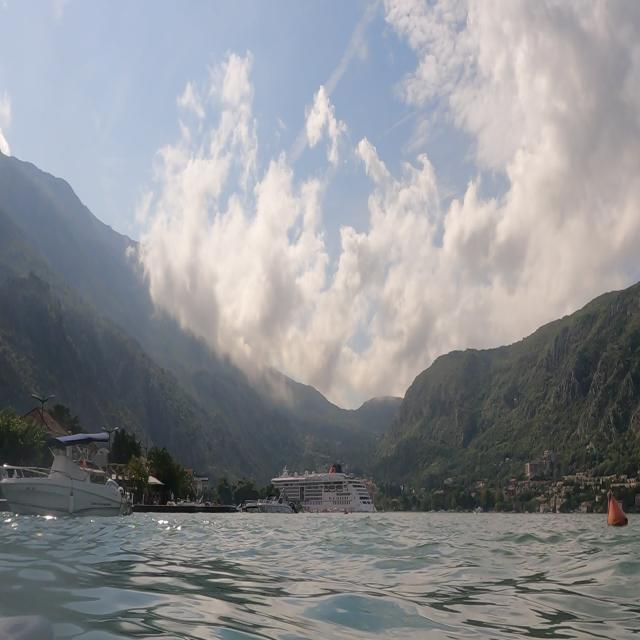boat: (2, 424, 131, 520), (267, 466, 387, 516), (240, 490, 304, 523)
buoy: (602, 482, 630, 536)
